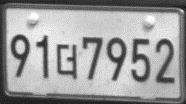1: (35, 33, 50, 79)
2: (153, 37, 175, 84)
5: (130, 36, 151, 82)
7: (80, 35, 104, 81)
9: (9, 33, 31, 78), (105, 36, 127, 81)
더: (55, 43, 78, 79)
